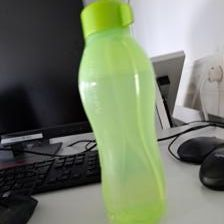bottle: (76, 0, 167, 224)
